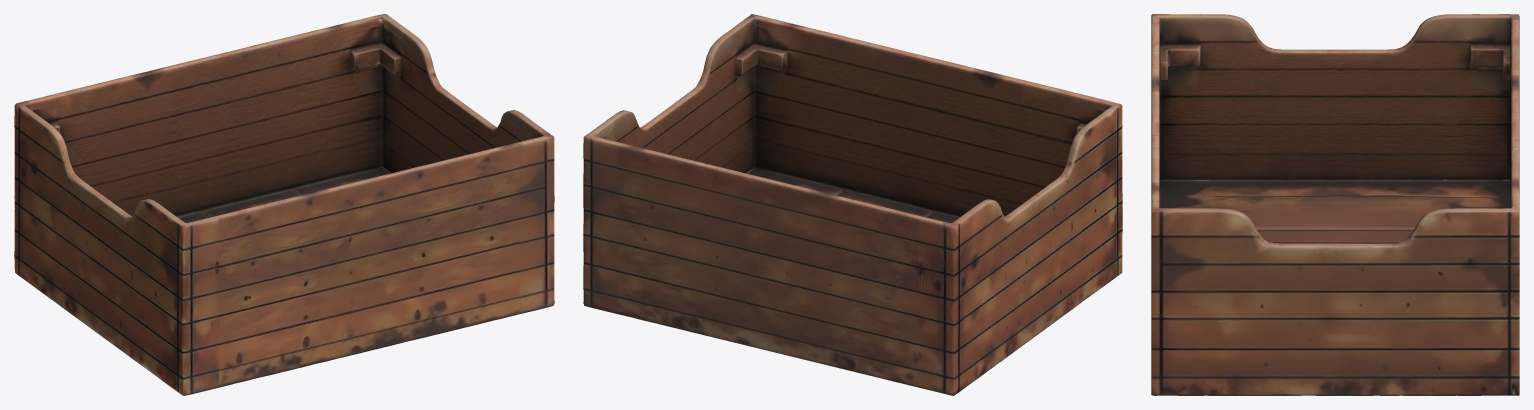
File: crate-low.glb
The picture shows the model from 3 angles, left to right: view 1: azimuth 30°, elevation 25°; view 2: azimuth 150°, elevation 25°; view 3: azimuth 270°, elevation 25°; orthographic projection. The views are drawn at different scales.
Bounding box in the file's own units: 2 × 0.8743 × 1.57.
1 material, 1 textured.
